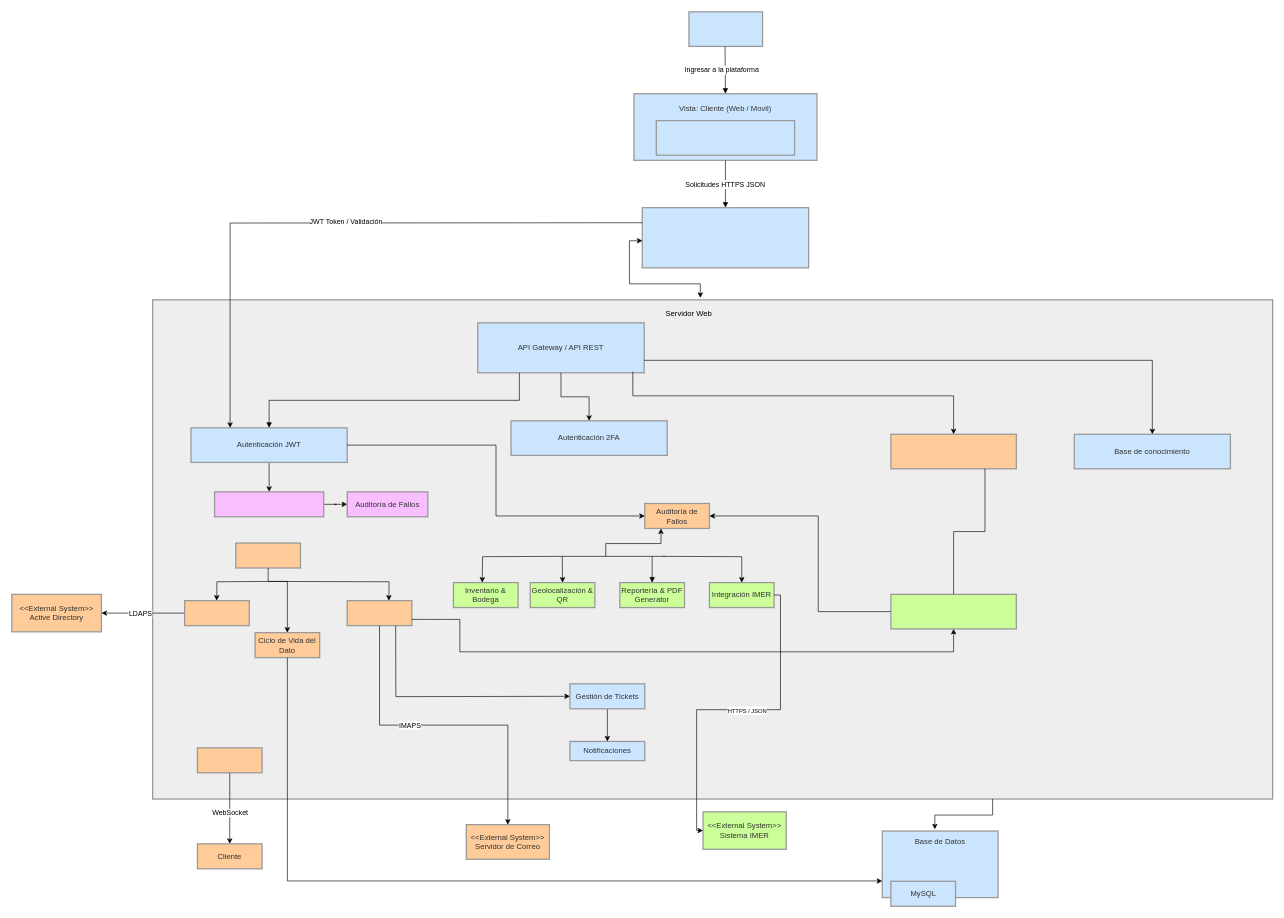
This 1284x918 diagram has some shape labels left out. The shapes that lost their labels are listed below. From the top down, each one's centre as x and y in pixels, then its label:
At point (725, 29): "Usuario".
At point (725, 138): "Navegador Web / App".
At point (725, 237): "«Middleware» Body-parser / Validador Integridad".
At point (953, 451): "Administración y Parametrización".
At point (269, 504): "Control de Seguridad de Acceso".
At point (268, 555): "Planificador de Tareas".
At point (217, 613): "Sincronización de Identidades".
At point (379, 613): "Ingesta de Correo".
At point (953, 611): "Motor de SLA y Asignación".
At point (229, 760): "Monitoreo de Personal".
